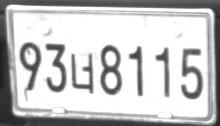1: (152, 46, 176, 97), (126, 46, 150, 96)
3: (45, 42, 67, 92)
5: (180, 48, 203, 100)
8: (99, 44, 122, 95)
9: (18, 41, 41, 90)
너: (70, 53, 94, 93)
